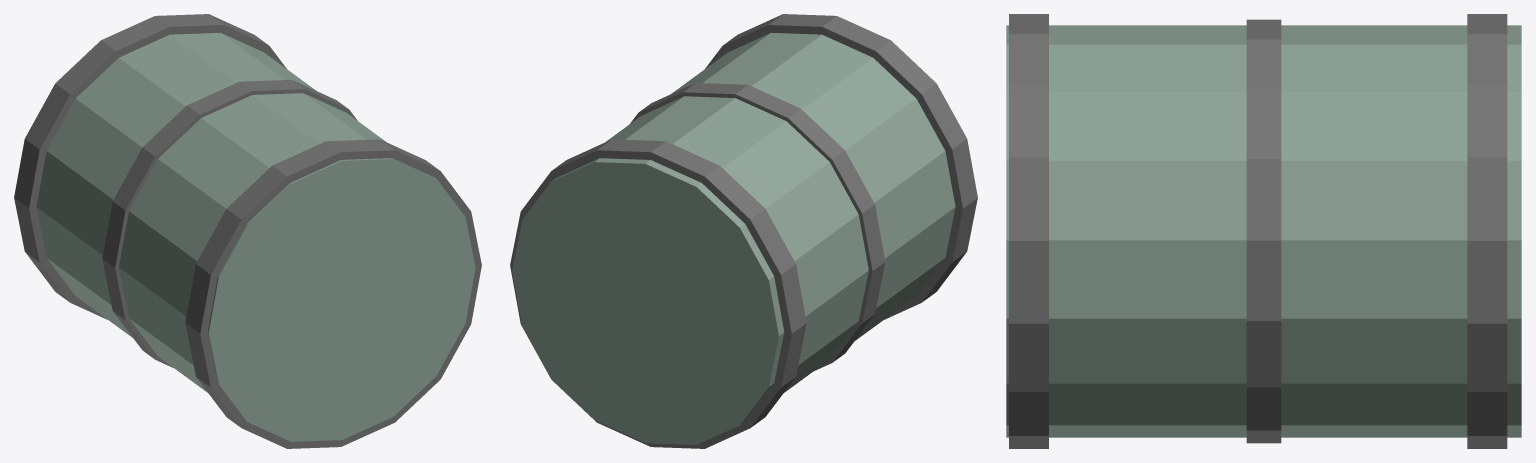
The model's file is city_trash_bin_round.glb.
The picture shows the model from 3 angles, left to right: view 1: azimuth 30°, elevation 25°; view 2: azimuth 150°, elevation 25°; view 3: azimuth 270°, elevation 25°; orthographic projection. The views are drawn at different scales.
Visible parts, largest first — view 1: barrel_body, barrel_top_ring, barrel_bottom_ring, barrel_mid_ring; view 2: barrel_body, barrel_bottom_ring, barrel_top_ring, barrel_mid_ring; view 3: barrel_body, barrel_bottom_ring, barrel_top_ring, barrel_mid_ring.
Part boxes in pixels (x1,y1,x2,y2): barrel_body: (36,33,475,441); barrel_top_ring: (185,139,481,448); barrel_bottom_ring: (14,14,286,319); barrel_mid_ring: (102,79,357,367); barrel_body: (512,33,955,444); barrel_bottom_ring: (510,139,806,448); barrel_top_ring: (705,14,977,319); barrel_mid_ring: (630,83,885,370); barrel_body: (1006,25,1521,437); barrel_bottom_ring: (1467,14,1507,448); barrel_top_ring: (1009,14,1048,448); barrel_mid_ring: (1246,19,1281,443).
Bounding box in the file's own units: 0.76 × 0.76 × 0.9.
